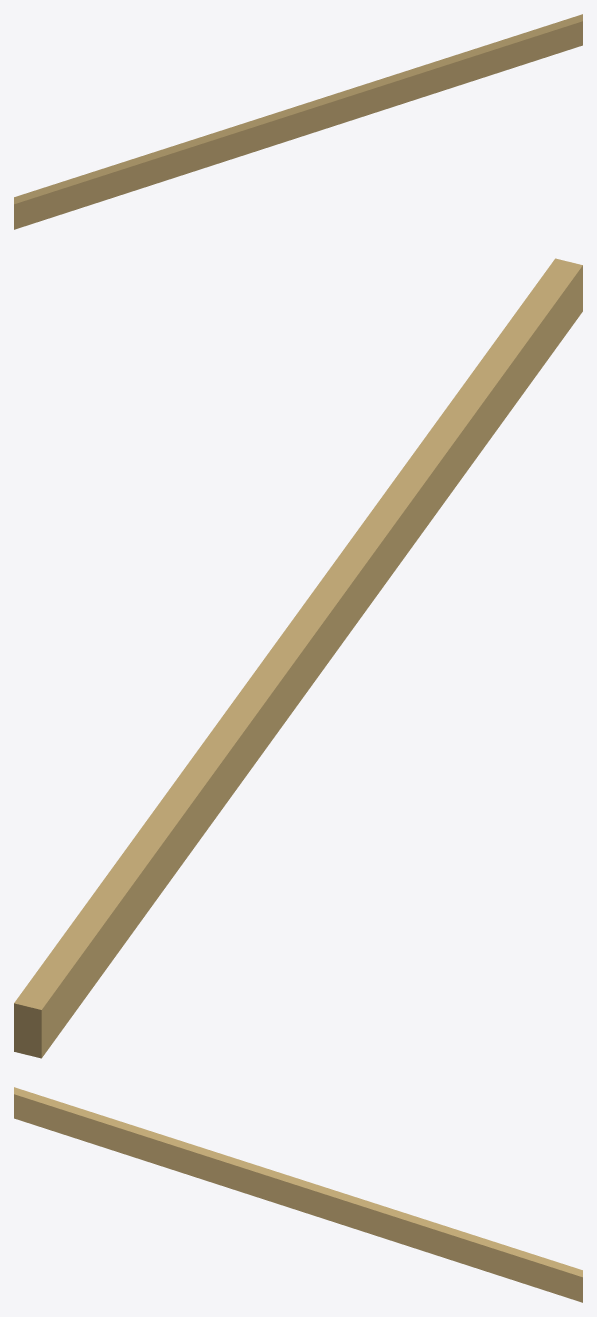
The picture shows the model from 3 angles, top to bottom: view 1: azimuth 90°, elevation 25°; view 2: azimuth 150°, elevation 25°; view 3: azimuth 270°, elevation 25°; orthographic projection. The views are drawn at different scales.
Visible parts, largest first — view 1: L1-3-S7-323-M05; view 2: L1-3-S7-323-M05; view 3: L1-3-S7-323-M05.
Part boxes in pixels (box(x1,y1,x2,y2)): L1-3-S7-323-M05: box(14, 14, 582, 229); L1-3-S7-323-M05: box(14, 258, 582, 1058); L1-3-S7-323-M05: box(14, 1087, 582, 1302).
Size of the model in its own units: 0.045 by 0.6169 by 1.52.
